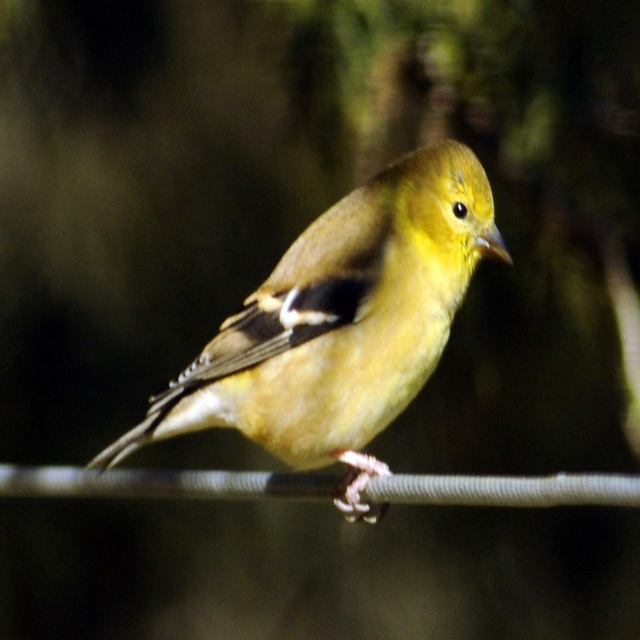Canary: (89, 140, 513, 523)
